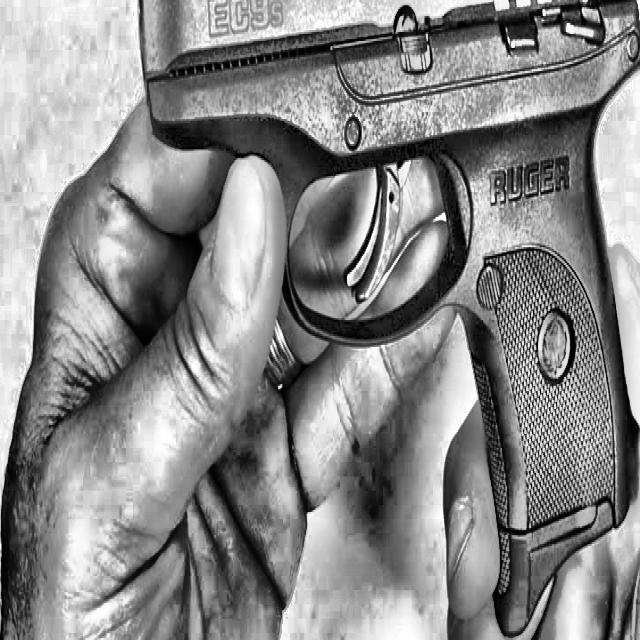Ruger: (136, 0, 640, 640)
